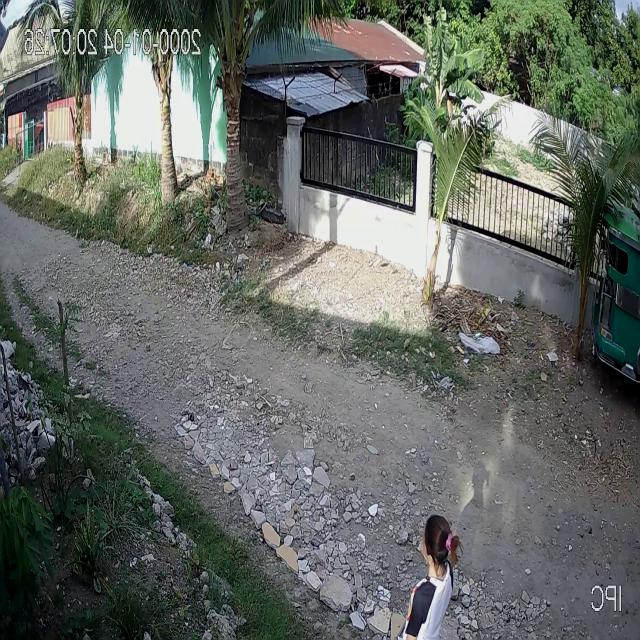standing: (393, 510, 463, 640)
